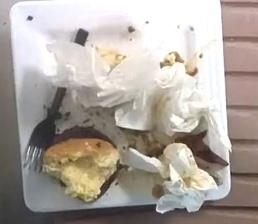bun: (42, 138, 117, 201)
